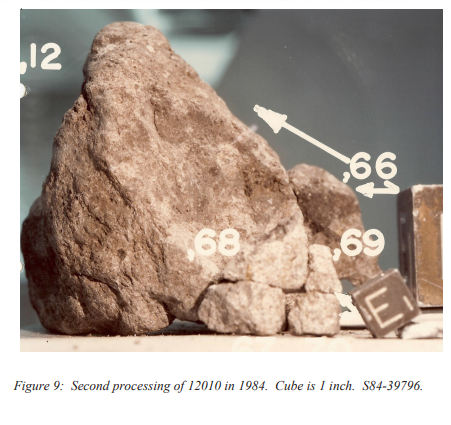Breccia: (81, 28, 355, 332), (31, 99, 351, 333)
